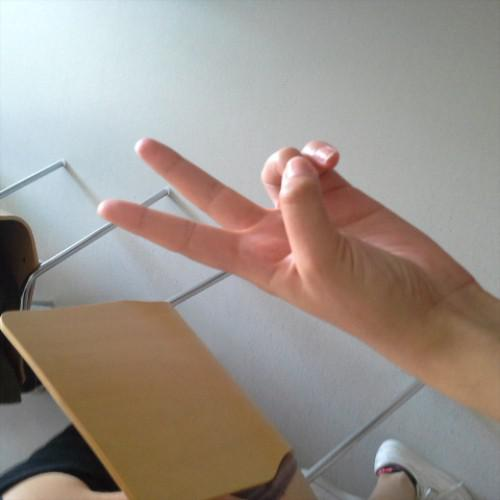scissors: (93, 130, 450, 357)
